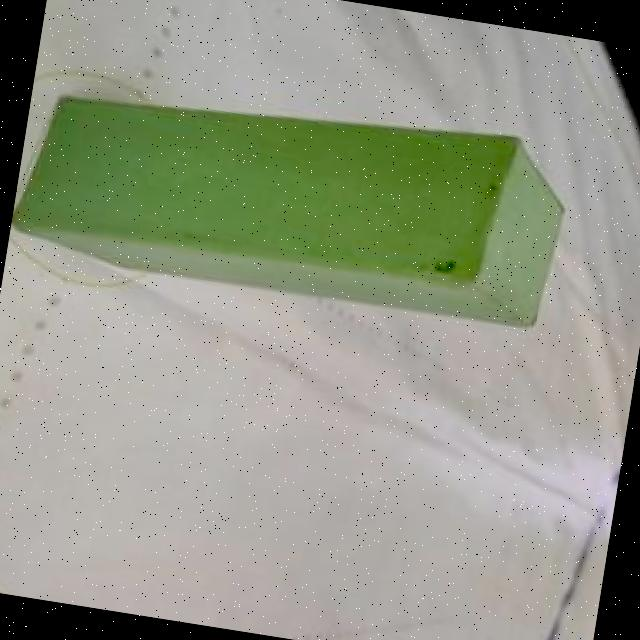greenbox: (7, 61, 575, 336)
